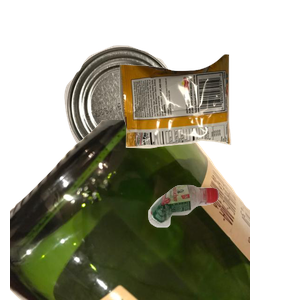glass: (10, 120, 250, 300)
metal: (62, 43, 232, 198)
plastic: (146, 182, 300, 300)
trash: (117, 52, 300, 193)
